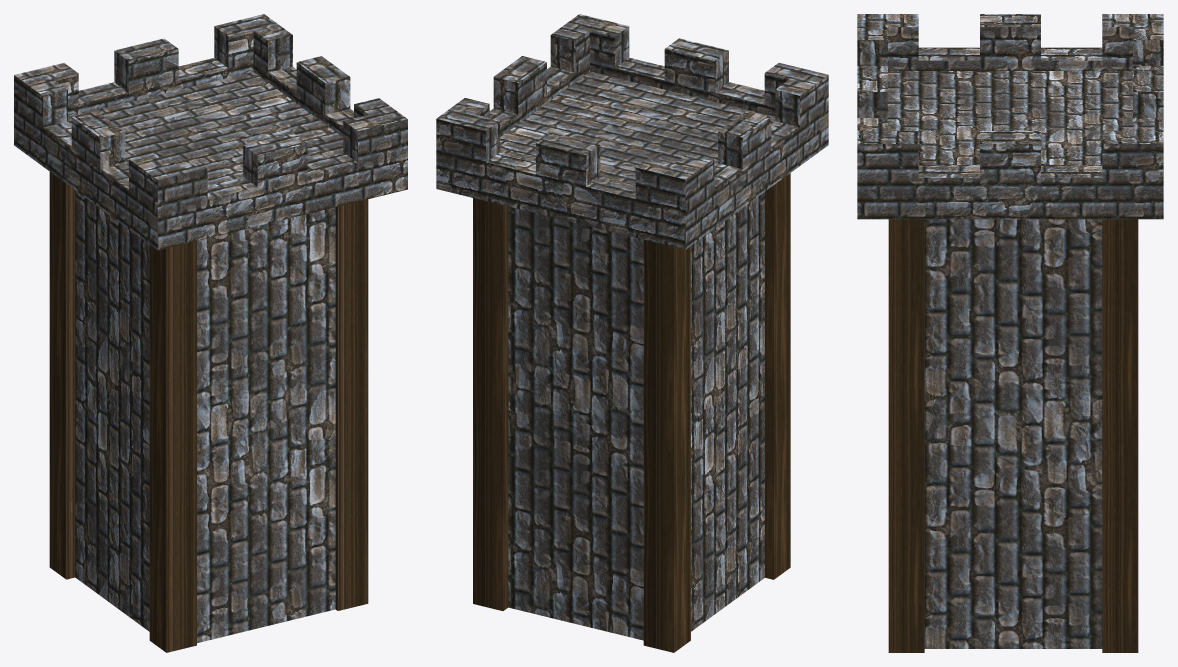
Rendered from model_draw_tower.fbx.
The picture shows the model from 3 angles, left to right: view 1: azimuth 30°, elevation 25°; view 2: azimuth 150°, elevation 25°; view 3: azimuth 270°, elevation 25°; orthographic projection. The views are drawn at different scales.
Visible parts, largest first — view 1: pCube1, pCube2, pCube5, pCube6, pCube4; view 2: pCube1, pCube2, pCube4, pCube3, pCube5; view 3: pCube1, pCube2, pCube3, pCube6.
Boxes of the visible parts, <box> form: pCube1: <box>75,190,335,642</box>; pCube2: <box>14,14,407,250</box>; pCube5: <box>149,241,196,652</box>; pCube6: <box>335,199,368,610</box>; pCube4: <box>49,172,75,579</box>; pCube1: <box>508,192,764,640</box>; pCube2: <box>436,14,828,249</box>; pCube4: <box>643,239,690,652</box>; pCube3: <box>473,198,508,610</box>; pCube5: <box>765,173,790,579</box>; pCube1: <box>924,219,1102,648</box>; pCube2: <box>857,14,1163,219</box>; pCube3: <box>1102,219,1138,652</box>; pCube6: <box>888,219,924,652</box>.
Size of the model in its own units: 9.04 by 16.9 by 8.99.
